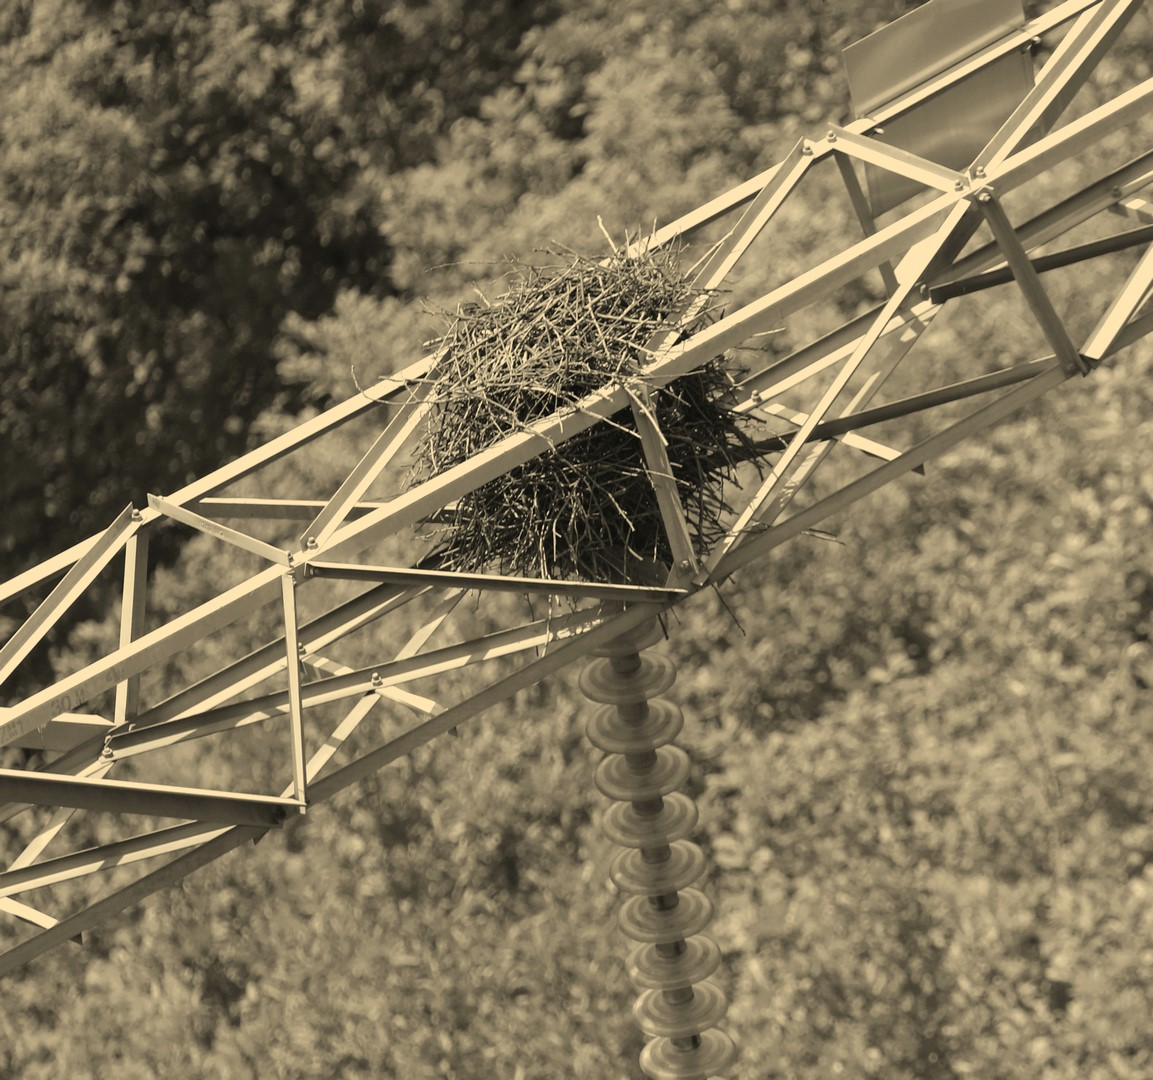niaowo: (394, 226, 767, 601)
